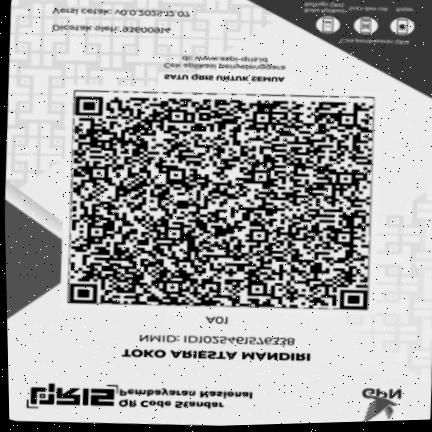Cara Pakai QRIS: (296, 0, 423, 48)
Cek Aplikasi Penyelenggara: (156, 51, 293, 72)
Dicetak Oleh: (46, 20, 180, 39)
Logo GPN: (349, 383, 415, 422)
Logo dan deskripsi QRIS: (22, 380, 261, 416)
Nama Merchant: (117, 345, 316, 367)
National Merchant ID: (134, 332, 304, 348)
QR Code: (57, 86, 382, 315)
Slogan: (156, 69, 292, 87)
Terminal ID: (199, 314, 236, 327)
Versi Cetak: (48, 3, 194, 20)
